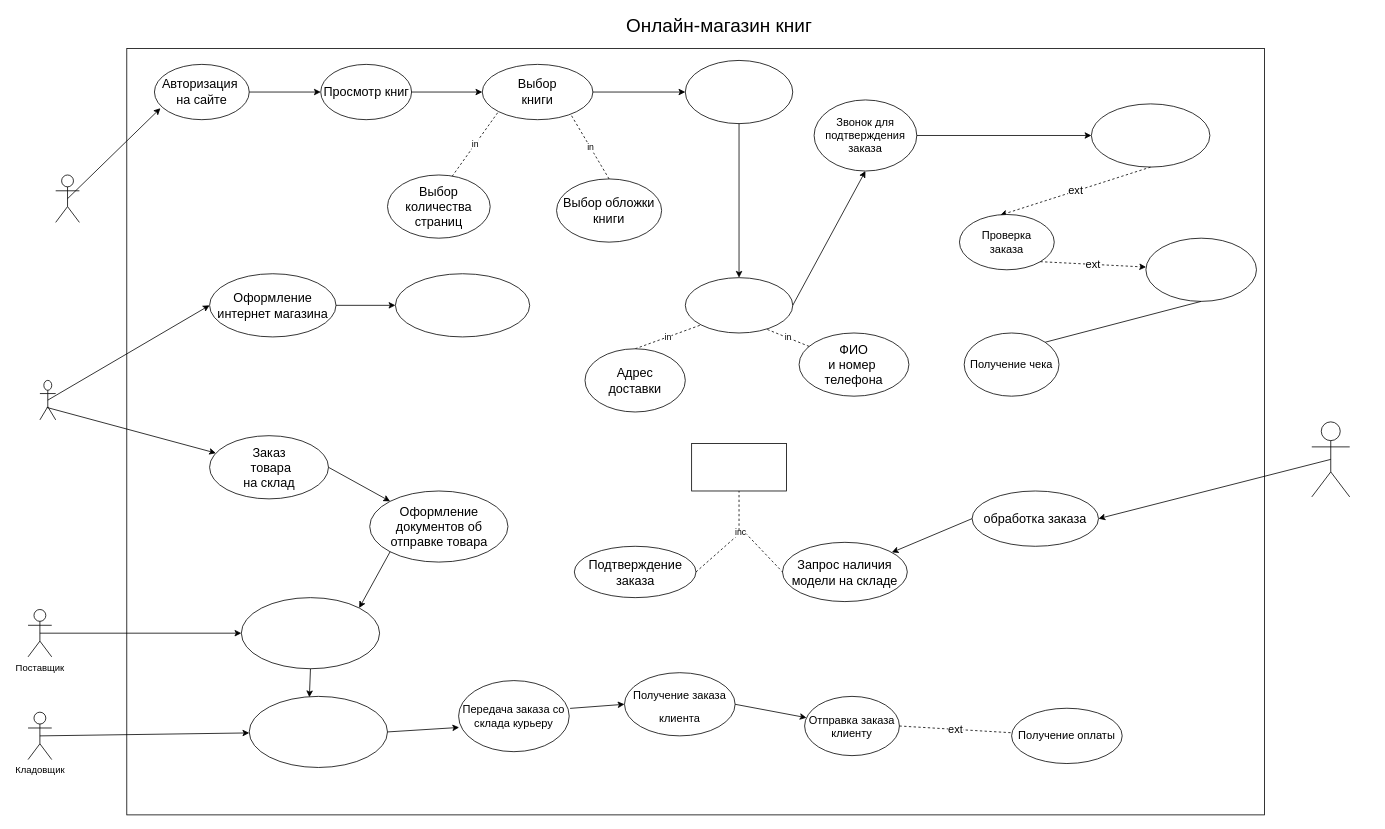
Image size: 1385x829. Some labels were removed from this diagram. Each missing label, with the box of its shape:
Администратор: (39, 380, 56, 420)
Если товар есть на складе: (691, 443, 786, 491)
Клиент: (55, 174, 79, 222)
Менеджер по работе с заказами: (1311, 421, 1350, 497)
Оплата: (1145, 237, 1256, 301)
Отправка товара на склад: (241, 597, 380, 669)
Получение заказа: (1091, 103, 1210, 167)
Получение товара на складе: (248, 696, 387, 767)
Создание карточки товара: (395, 273, 530, 337)
Указание персональных данных: (685, 277, 793, 333)
Формирование заказа: (685, 60, 793, 124)
